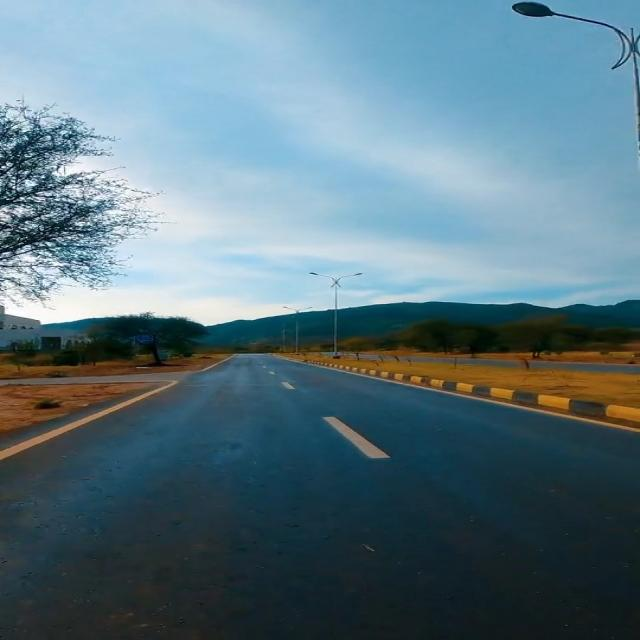asphalt: (0, 355, 639, 639)
